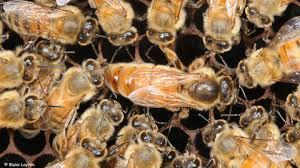Queen-Bee: (100, 48, 237, 113)
worker-bee: (228, 27, 300, 91), (39, 62, 104, 118), (4, 6, 99, 44), (64, 98, 121, 148), (192, 122, 246, 157), (65, 134, 109, 168), (126, 129, 163, 168)
